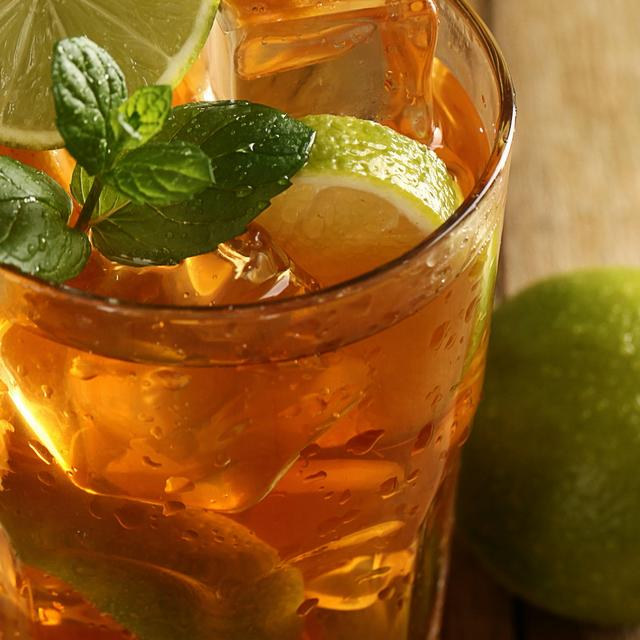lime: (427, 257, 640, 640)
